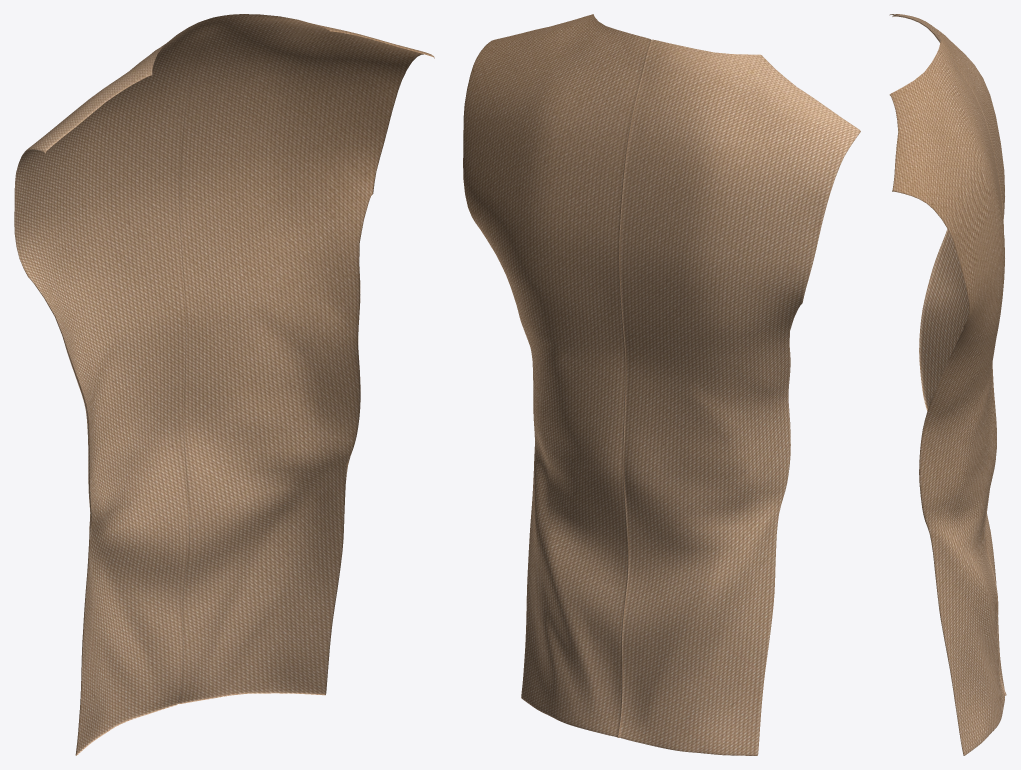
Rendered from Full_Linning.glb.
3 views of the same model, side by side, from view 1: azimuth 30°, elevation 25°; view 2: azimuth 150°, elevation 25°; view 3: azimuth 270°, elevation 25° (orthographic). The views are drawn at different scales.
Parts seen in each view (by area): view 1: Full_Lined; view 2: Full_Lined; view 3: Full_Lined.
Boxes of the visible parts, left/top/right/bottom form: Full_Lined: left=14, top=14, right=434, bottom=755; Full_Lined: left=463, top=14, right=860, bottom=755; Full_Lined: left=889, top=14, right=1006, bottom=755.
Size of the model in its own units: 0.0589 by 0.1027 by 0.0165.
Materials: 1 (1 with a texture image).
